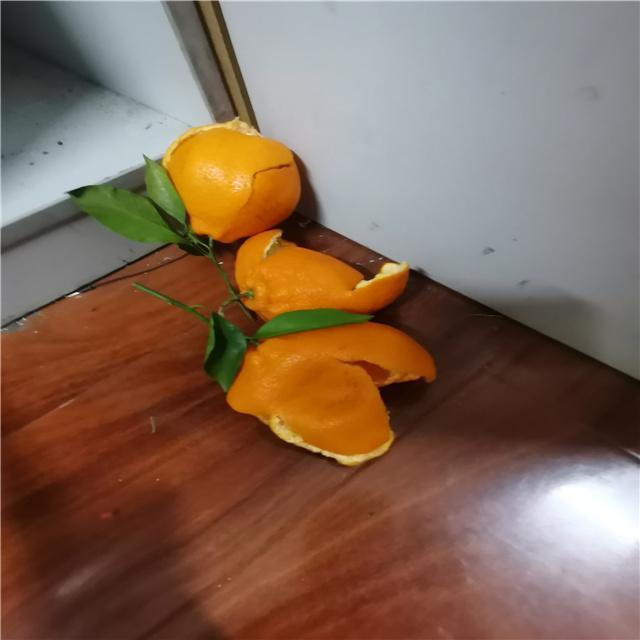orange-peel: (224, 228, 438, 472), (162, 123, 301, 243)
